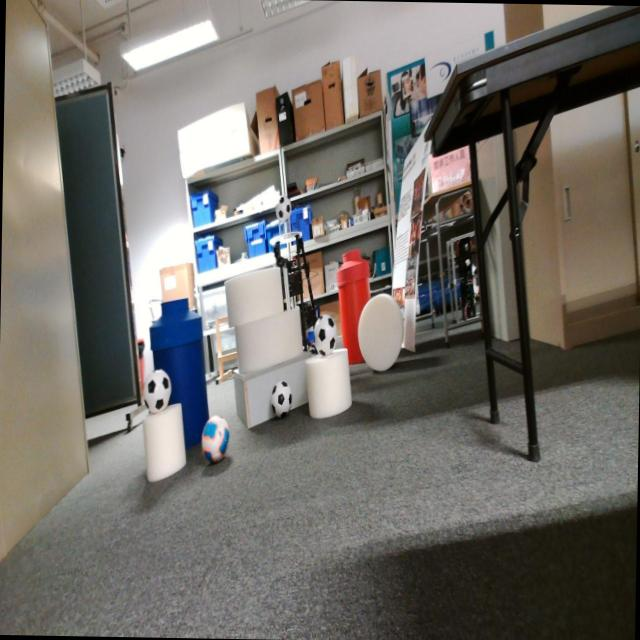Soccer Ball: (142, 369, 172, 410), (314, 314, 336, 354), (270, 380, 292, 415), (274, 194, 292, 220)
